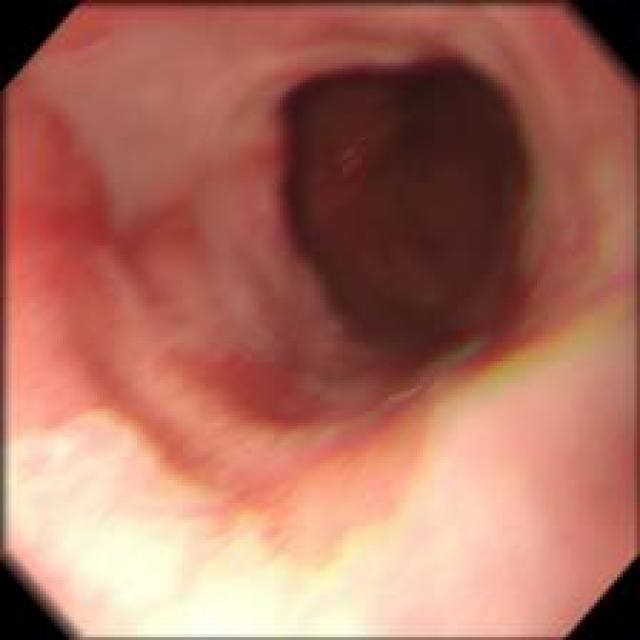blur: (0, 1, 636, 636), (38, 24, 302, 259), (86, 246, 295, 382)
color misalignment: (428, 330, 535, 400), (520, 138, 551, 224), (334, 141, 372, 180)
contrast: (284, 50, 530, 369)
saturation: (6, 408, 544, 636)
